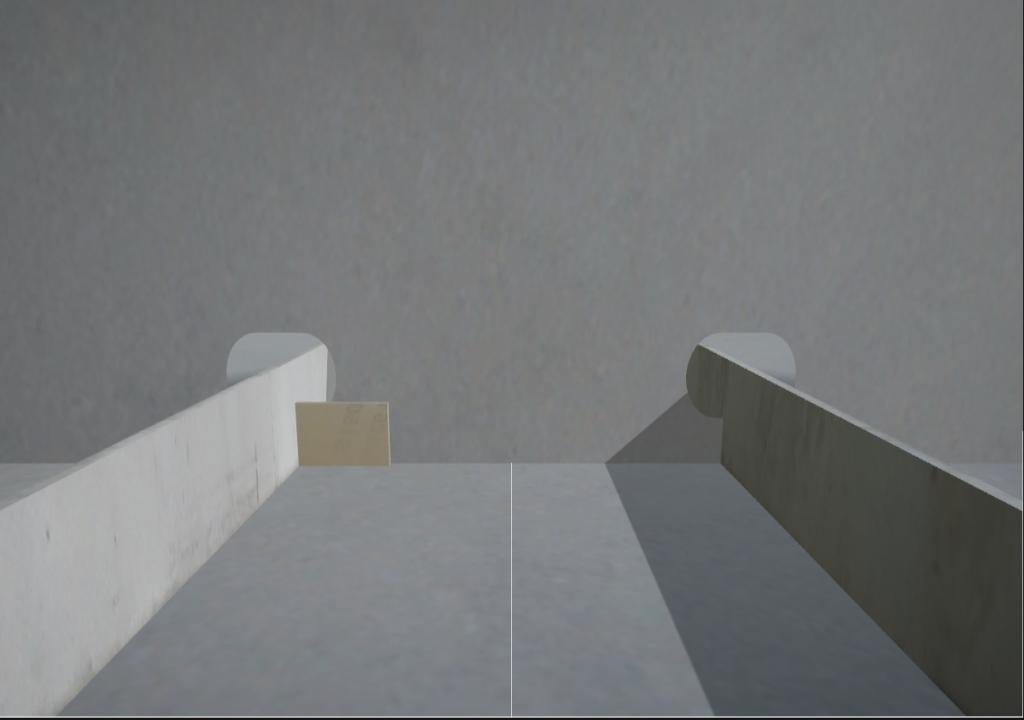fillet_yong_jeop_jang: (389, 452, 730, 474)
longi_yong_jeop_jang: (708, 411, 731, 470)
plate_CP01: (296, 400, 391, 465)
